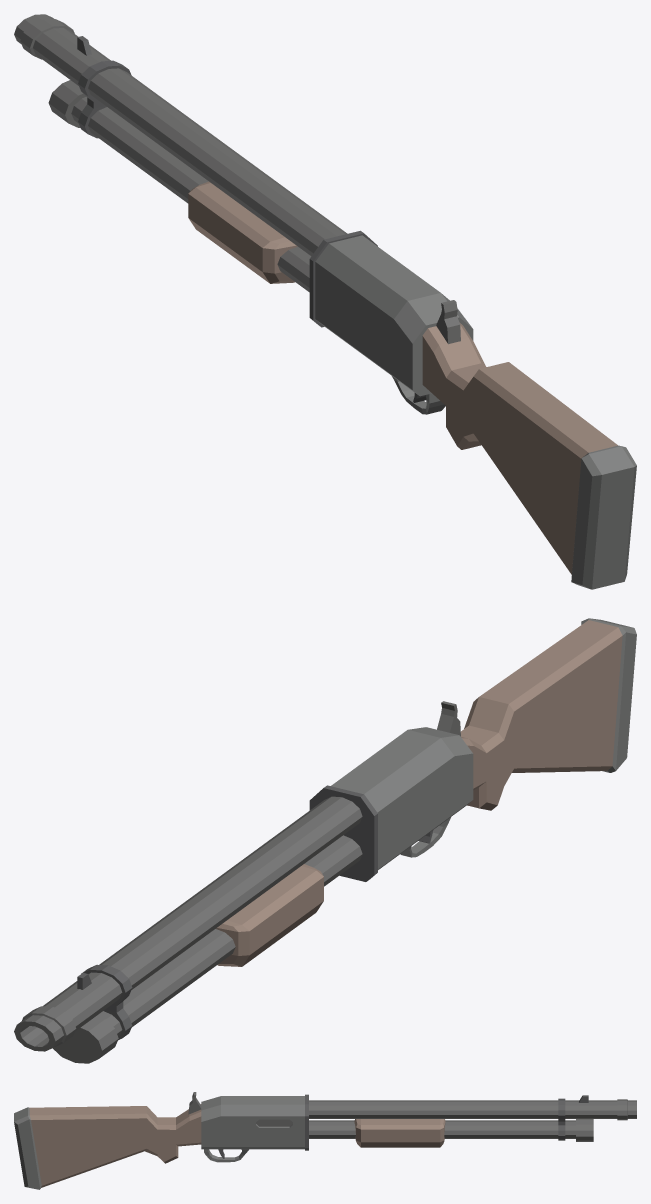
The model's file is shotgun.glb.
The picture shows the model from 3 angles, top to bottom: view 1: azimuth 30°, elevation 25°; view 2: azimuth 150°, elevation 25°; view 3: azimuth 270°, elevation 25°; orthographic projection. The views are drawn at different scales.
Parts seen in each view (by area): view 1: Shotgun_3; view 2: Shotgun_3; view 3: Shotgun_3.
Part boxes in pixels (x1,y1,x2,y2): Shotgun_3: (14,14,636,589); Shotgun_3: (14,618,636,1063); Shotgun_3: (14,1092,636,1189).
Bounding box in the file's own units: 0.0529 × 0.1349 × 0.8276.
